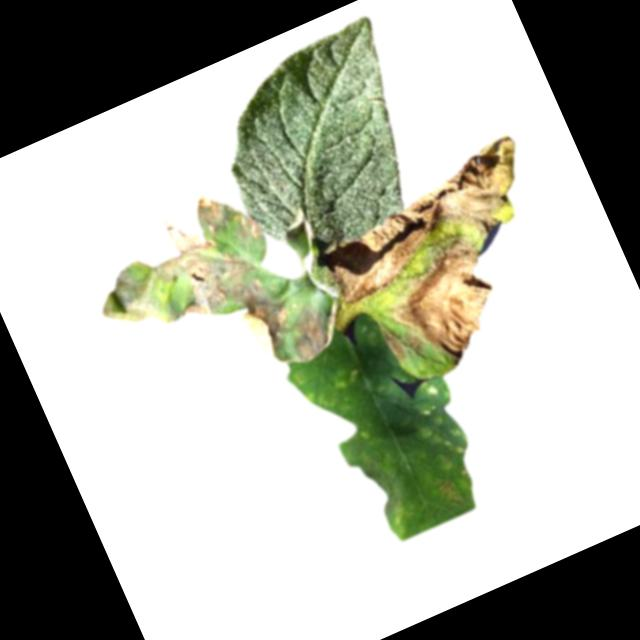Late_blight: (305, 130, 549, 309), (73, 177, 283, 351), (378, 233, 516, 376), (224, 268, 306, 370), (276, 293, 349, 366), (378, 491, 420, 543), (433, 473, 469, 512), (329, 359, 366, 392), (379, 324, 409, 364)
healthy: (193, 12, 448, 272)
